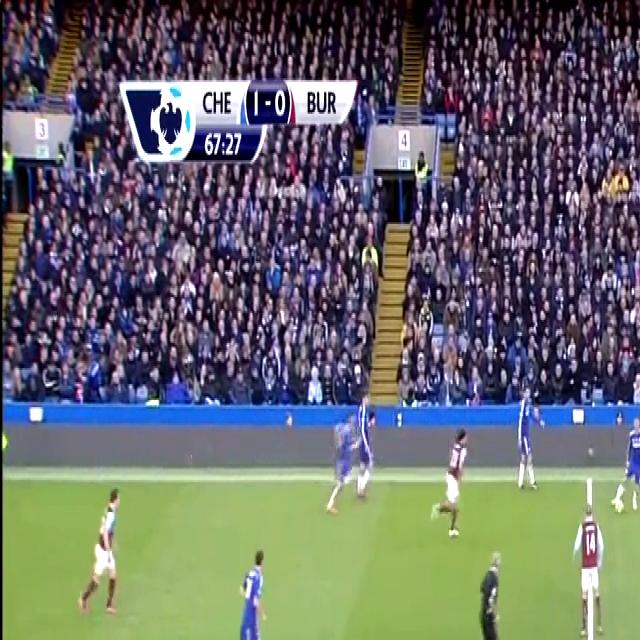referee: (468, 542, 509, 640)
soccer-player: (78, 477, 132, 624), (425, 415, 472, 541), (567, 501, 608, 640), (230, 544, 278, 640), (325, 406, 363, 518), (509, 380, 542, 499), (350, 385, 380, 504), (609, 406, 640, 518)
